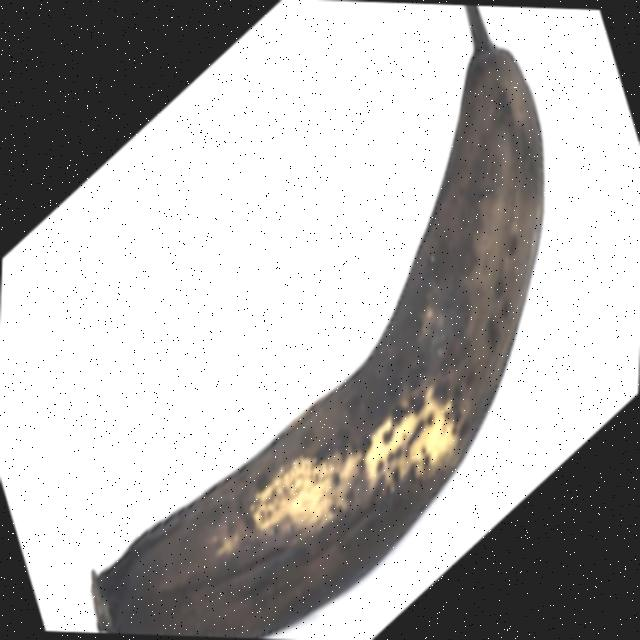Rotten: (78, 0, 555, 640)
